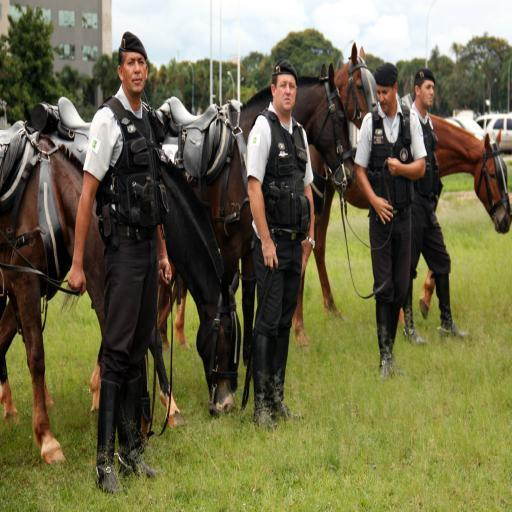horse: (0, 39, 512, 464)
